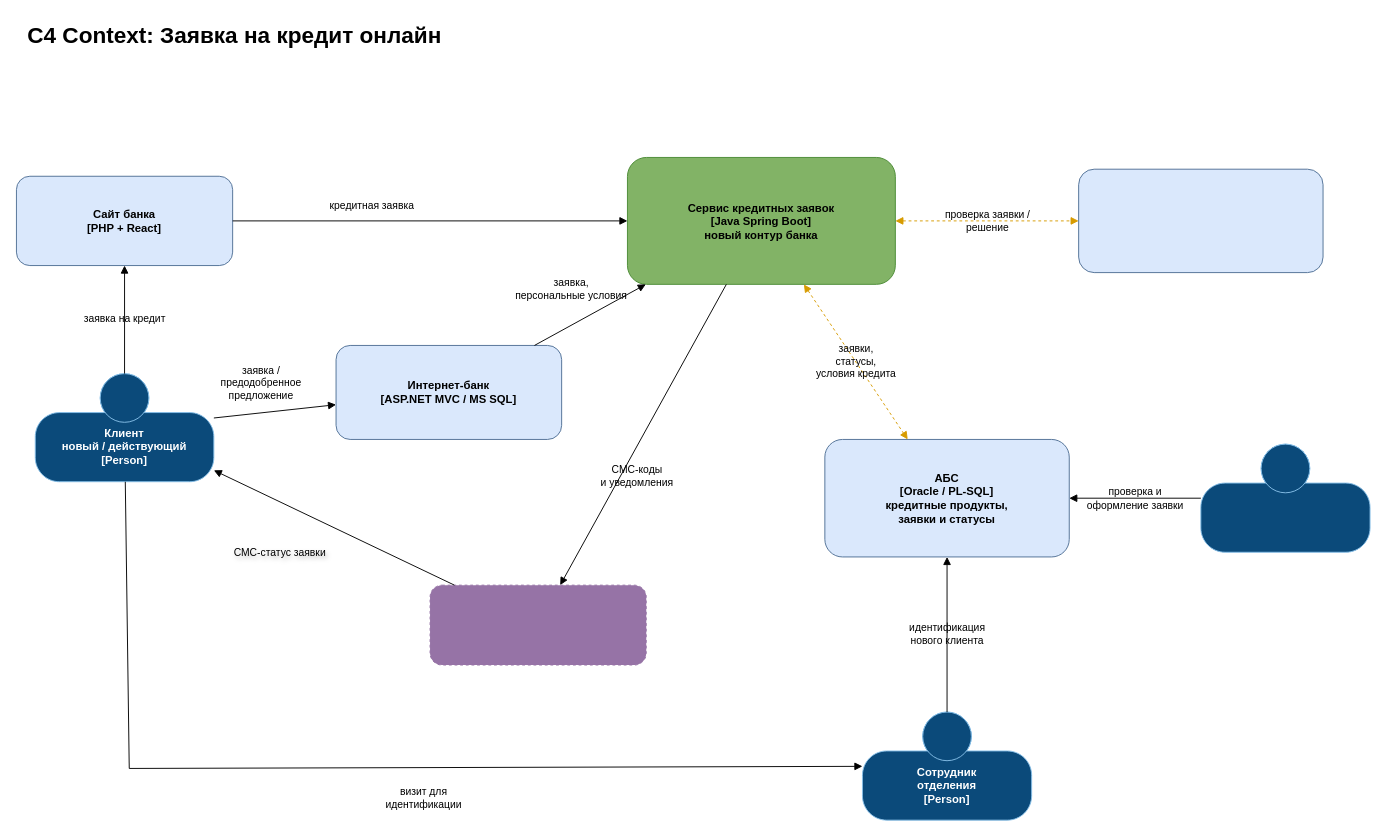
The diagram is 1387 pixels wide and 837 high, and some of its shapes have lost their labels. The box of each missing label's shape, as (x1, y1, x2, y2) in pixels:
SMS-шлюз телеком-оператора: (429, 584, 646, 665)
Кредитный бэк-офис [Person]: (1200, 443, 1370, 552)
Скоринговая система кредитное решение и персональные условия: (1078, 168, 1323, 273)
